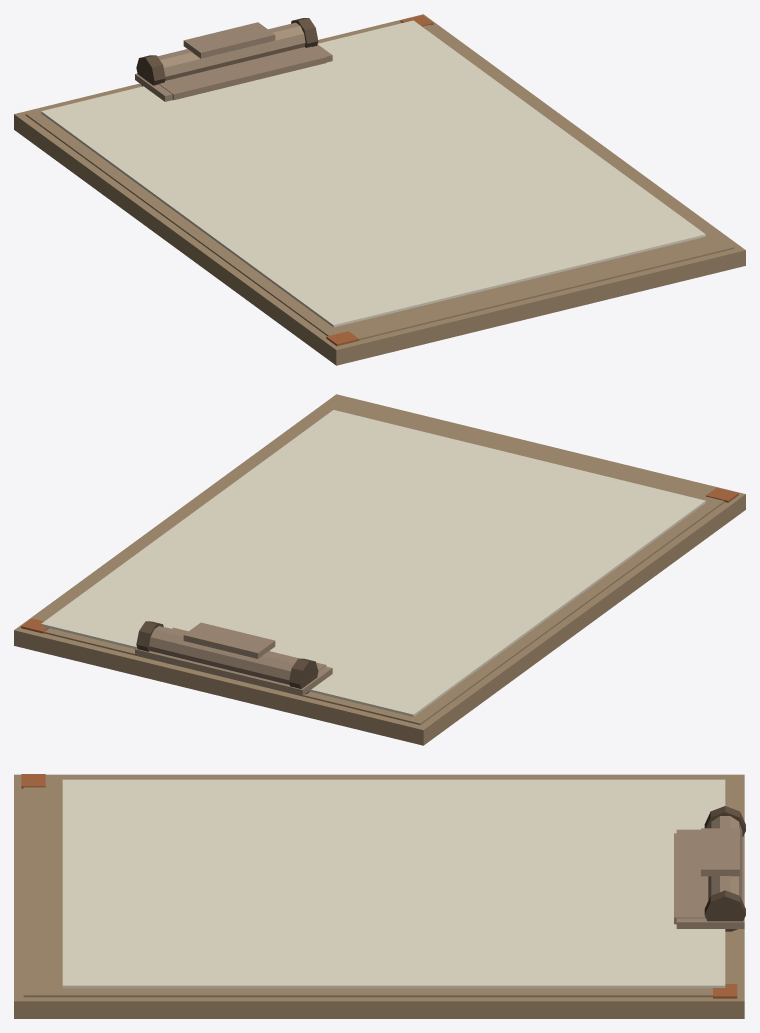
File: clipboard_saltflat.glb
3 renders of one model, top to bottom at view 1: azimuth 30°, elevation 25°; view 2: azimuth 150°, elevation 25°; view 3: azimuth 270°, elevation 25°, orthographic. The views are drawn at different scales.
Visible parts, largest first — view 1: Clipboard_Paper, Clipboard_Board, Clipboard_Clip; view 2: Clipboard_Paper, Clipboard_Board, Clipboard_Clip; view 3: Clipboard_Paper, Clipboard_Board, Clipboard_Clip.
Boxes of the visible parts, box(x1,y1,x2,y2) form: Clipboard_Paper: box(41, 20, 705, 327); Clipboard_Board: box(14, 14, 745, 365); Clipboard_Clip: box(135, 18, 332, 101); Clipboard_Paper: box(41, 410, 705, 716); Clipboard_Board: box(14, 394, 745, 745); Clipboard_Clip: box(135, 621, 332, 695); Clipboard_Paper: box(62, 779, 725, 988); Clipboard_Board: box(14, 774, 744, 1018); Clipboard_Clip: box(674, 806, 745, 931).
Size of the model in its own units: 0.22 by 0.0257 by 0.3005.
